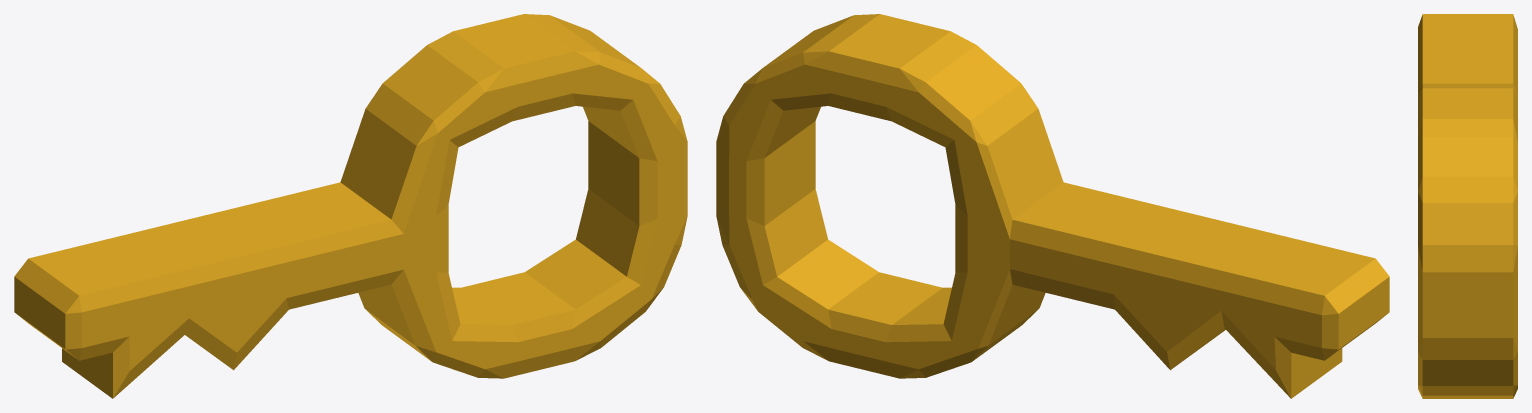
The model's file is Key.fbx.
3 views of the same model, side by side, from view 1: azimuth 30°, elevation 25°; view 2: azimuth 150°, elevation 25°; view 3: azimuth 270°, elevation 25° (orthographic). The views are drawn at different scales.
Parts seen in each view (by area): view 1: kLUCH; view 2: kLUCH; view 3: kLUCH.
Boxes of the visible parts, x1,y1,x2,y2 form: kLUCH: (14,14,687,398); kLUCH: (716,14,1389,398); kLUCH: (1418,14,1517,398).
Size of the model in its own units: 420 by 200 by 65.92.
